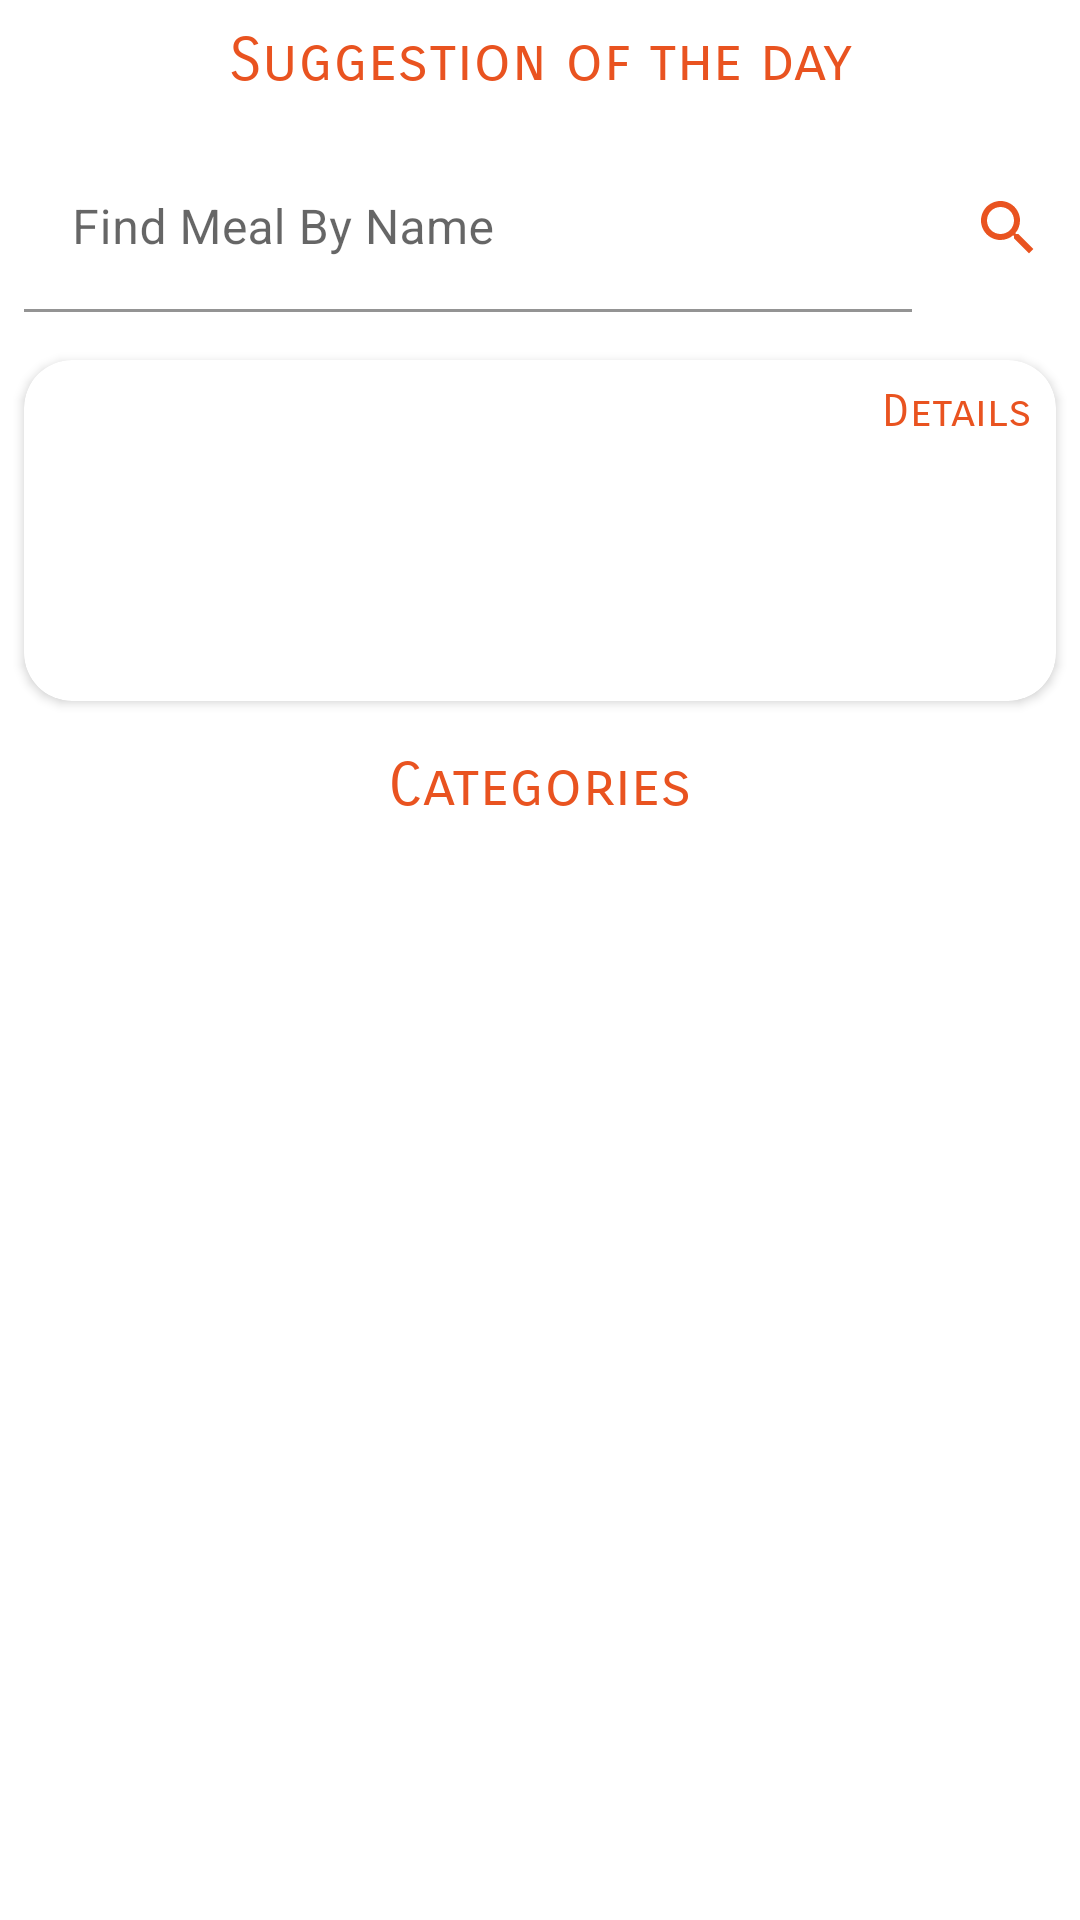

Where to tap for icons on this 1080px x 1920px app screen, as (x,y):
search: (1007,227)
